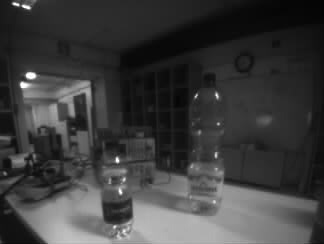Bottle: (189, 74, 223, 211), (102, 142, 133, 234)
